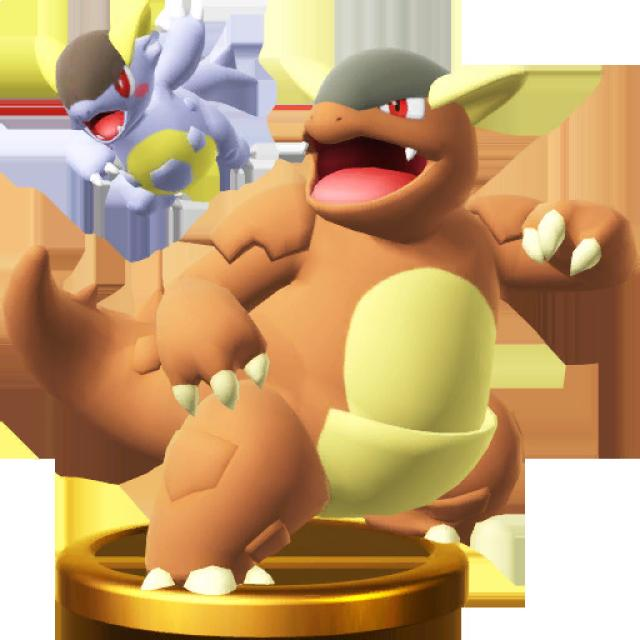Kangaskhan: (123, 51, 540, 527)
